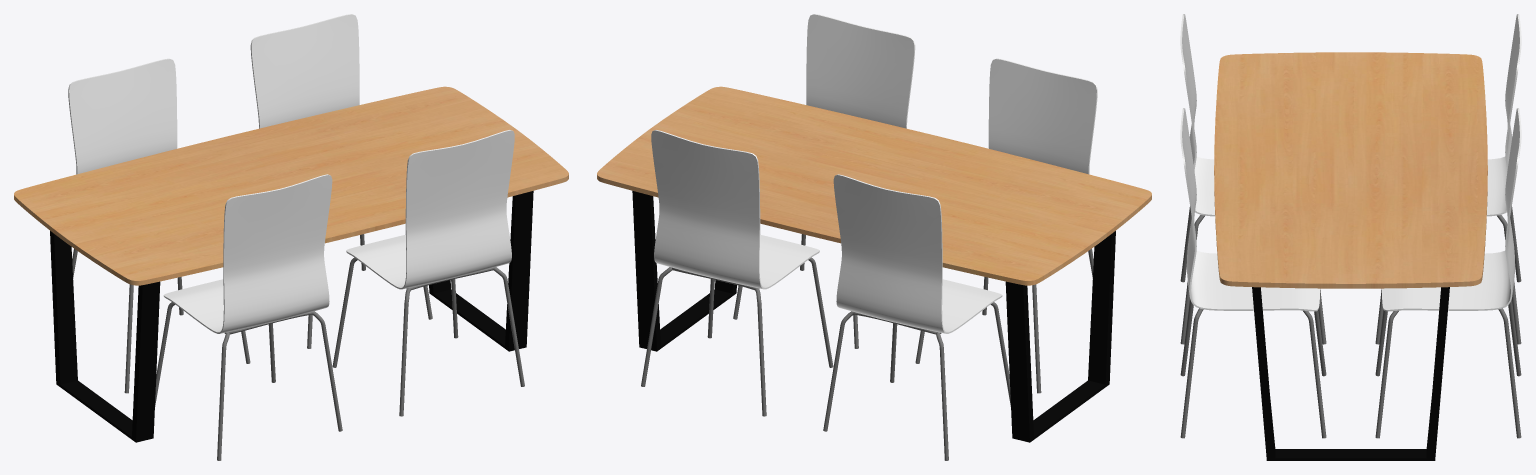
File: ArtTableSet.glb
3 views of the same model, side by side, from view 1: azimuth 30°, elevation 25°; view 2: azimuth 150°, elevation 25°; view 3: azimuth 270°, elevation 25° (orthographic). The views are drawn at different scales.
Parts seen in each view (by area): view 1: Model; view 2: Model; view 3: Model.
Boxes of the visible parts, bbox=[...] form: Model: bbox=[14, 14, 568, 460]; Model: bbox=[597, 14, 1151, 460]; Model: bbox=[1180, 14, 1521, 460].
Bounding box in the file's own units: 8.02 × 4.43 × 4.99.
1 material, 1 textured.
